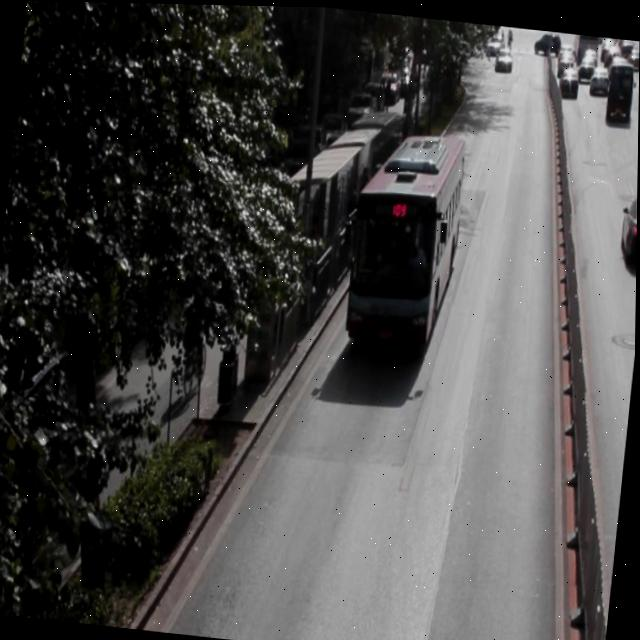car: (616, 192, 638, 262)
van: (344, 124, 466, 349)
